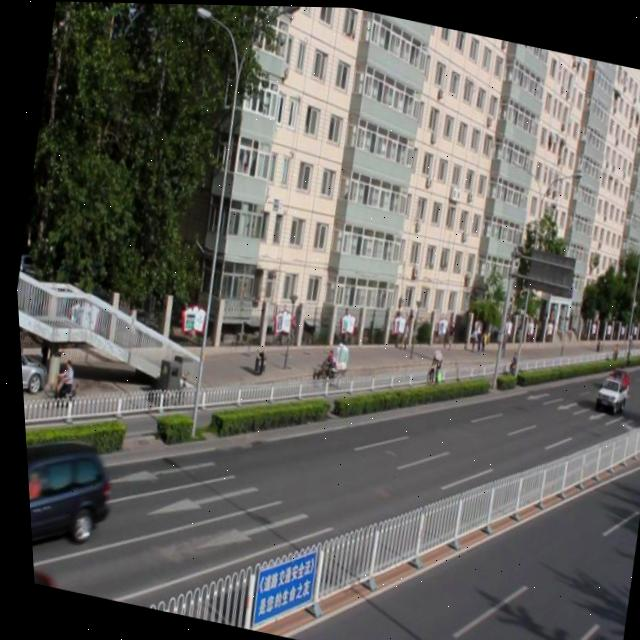car: (20, 420, 116, 581)
